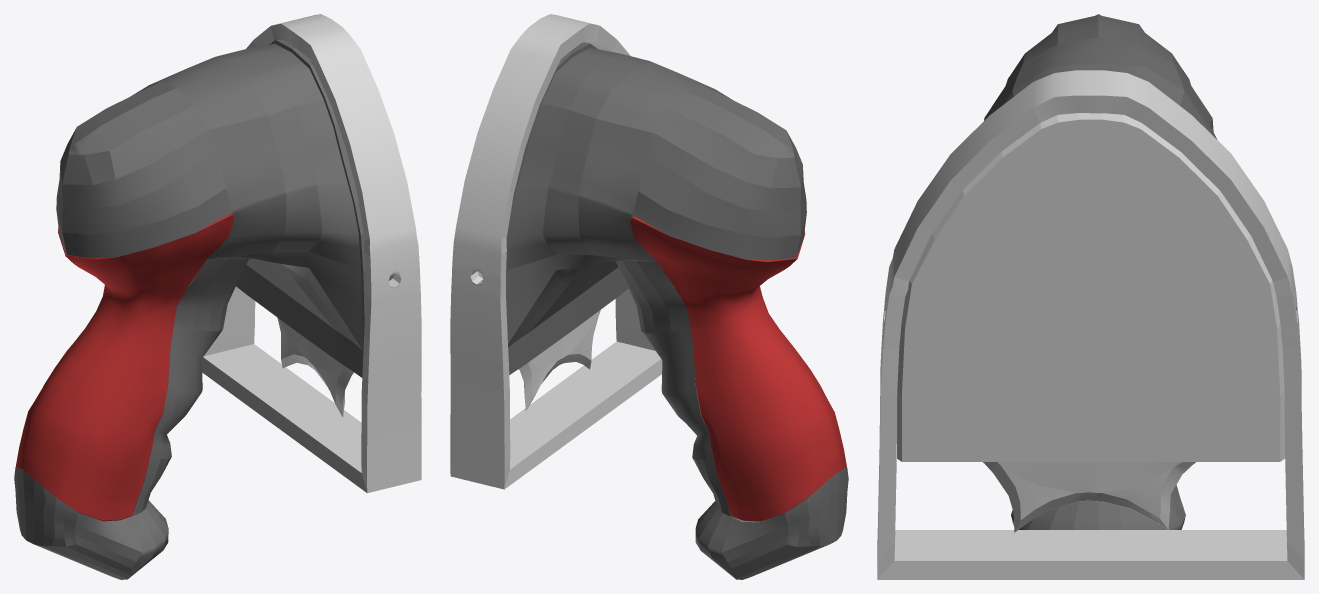
Rendered from shawarmaslicer_UV_Ready.fbx.
3 renders of one model, left to right at view 1: azimuth 30°, elevation 25°; view 2: azimuth 150°, elevation 25°; view 3: azimuth 270°, elevation 25°, orthographic. The views are drawn at different scales.
Parts seen in each view (by area): view 1: machine_Top, Rim, machine_Handle, blade; view 2: machine_Top, Rim, machine_Handle, blade; view 3: knife_cover, Rim, machine_Top, blade.
Part boxes in pixels (<box>): machine_Top: <box>14,39,365,579</box>; Rim: <box>202,14,421,493</box>; machine_Handle: <box>16,213,234,521</box>; blade: <box>277,317,353,417</box>; machine_Top: <box>506,42,848,579</box>; Rim: <box>450,14,662,489</box>; machine_Handle: <box>630,216,846,521</box>; blade: <box>519,310,600,410</box>; knife_cover: <box>897,113,1285,461</box>; Rim: <box>877,70,1304,579</box>; machine_Top: <box>984,14,1217,529</box>; blade: <box>982,462,1195,532</box>.
Size of the model in its own units: 11.04 by 16.73 by 10.63.
